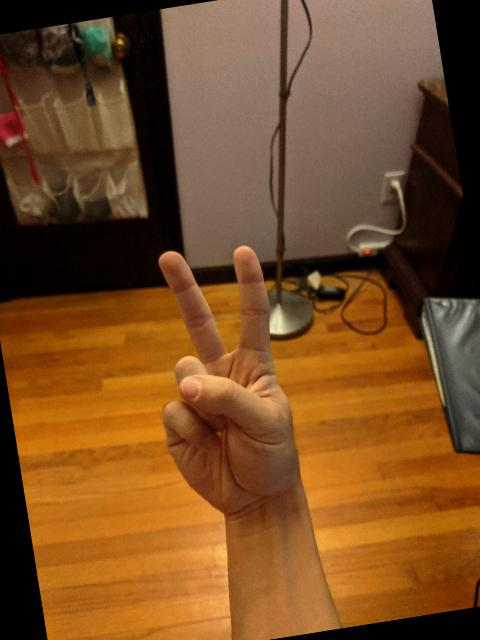V: (133, 231, 313, 530)
